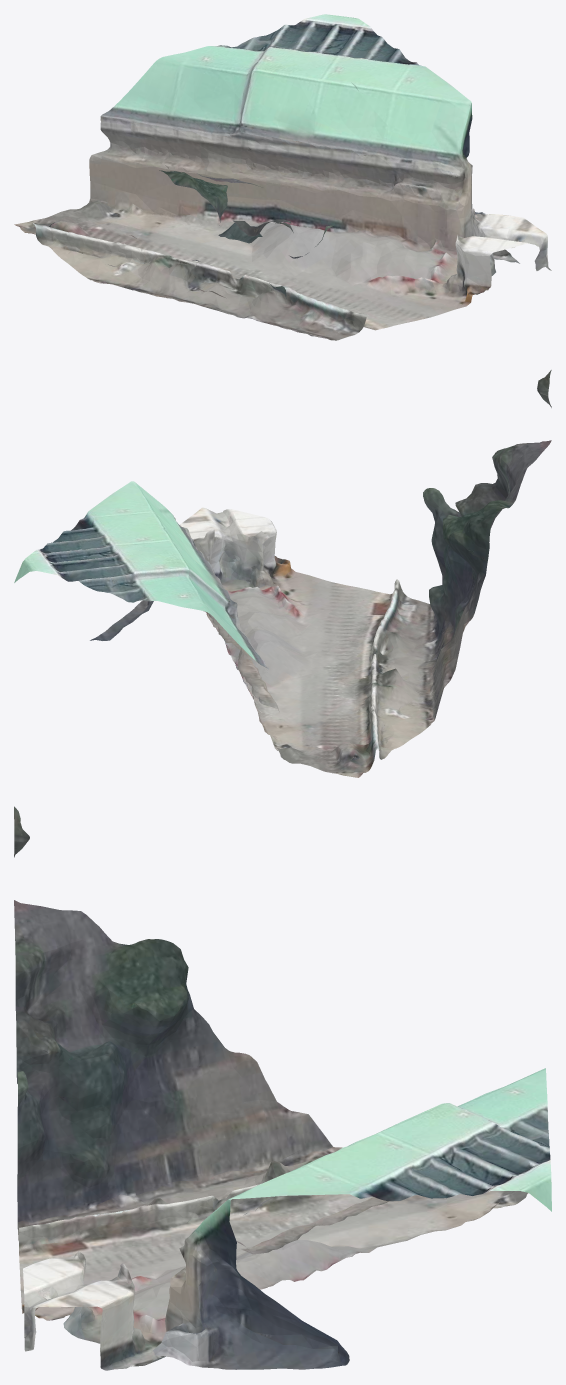
Rendered from Tile_+011_+008_L21_0000020000.glb.
3 renders of one model, top to bottom at view 1: azimuth 30°, elevation 25°; view 2: azimuth 150°, elevation 25°; view 3: azimuth 270°, elevation 25°, orthographic. The views are drawn at different scales.
Parts seen in each view (by area): view 1: rtc; view 2: rtc; view 3: rtc.
Boxes of the visible parts, x1,y1,x2,y2 form: rtc: (14, 14, 551, 340); rtc: (14, 370, 551, 777); rtc: (14, 806, 551, 1370).
Size of the model in its own units: 32.02 by 23.28 by 32.61.
1 material, 1 textured.
